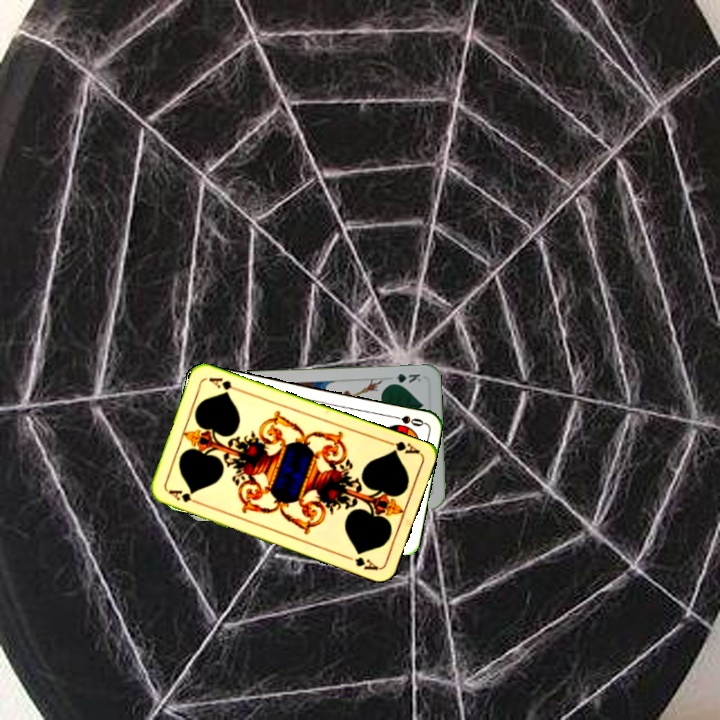GA: (382, 436, 422, 457), (164, 486, 203, 507)
GK: (384, 370, 424, 387)
SO: (386, 411, 426, 429)
